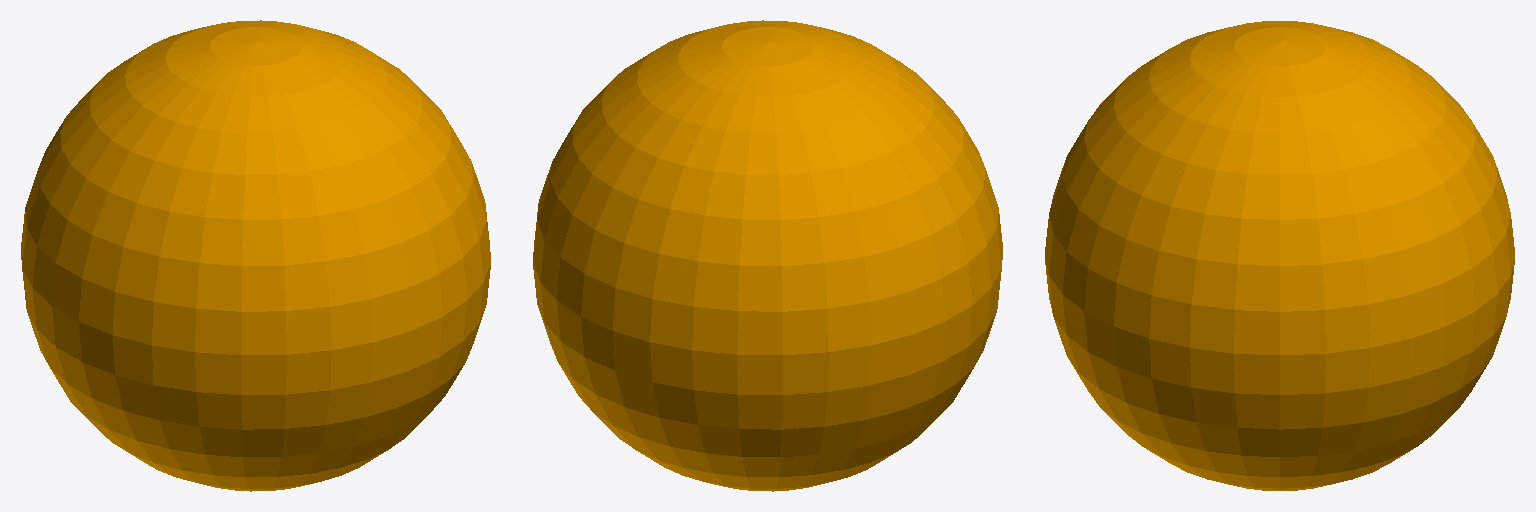
robot.urdf — Orig1:
<?xml version="1.0"?>
<robot name="Orig1">
  <link name="Orig1">
    <inertial>
      <origin xyz="0 0 0" /> 
      <mass value="0.1" />
      <inertia  ixx="1.0" ixy="0.0"  ixz="0.0"  iyy="1.0"  iyz="0.0"  izz="1.0" />
    </inertial>
    <visual>
      <origin xyz="-0.0012834 0.094555 -0.8414966" rpy="0 0 0"/>
      <geometry>
        <sphere radius="0.01"/>
      </geometry>
    </visual>
    <collision>
      <origin xyz="-0.0012834 0.094555 -0.8414966" rpy="0 0 0"/>
      <geometry>
        <sphere radius="0"/>
      </geometry>
    </collision>
  </link>
  <gazebo reference="Orig1">
    <material>Gazebo/Blue</material>
    <turnGravityOff>true</turnGravityOff>
  </gazebo>
</robot>

--- Facts derived from the render (not from the file) ---
The picture shows the robot from 3 angles, left to right: view 1: azimuth 30°, elevation 25°; view 2: azimuth 150°, elevation 25°; view 3: azimuth 270°, elevation 25°; orthographic projection.
Model Orig1 with 1 links and 0 joints (none), rooted at Orig1, posed all joints at 0.
Links seen in each view (by area): view 1: Orig1; view 2: Orig1; view 3: Orig1.
Link boxes in pixels (x1=…): Orig1: x1=21, y1=20, x2=490, y2=491; Orig1: x1=533, y1=20, x2=1002, y2=491; Orig1: x1=1045, y1=21, x2=1514, y2=490.
Size in the robot's own frame: 0.02 by 0.02 by 0.02 metres.
Geometry: primitives only (box / cylinder / sphere), no mesh files.